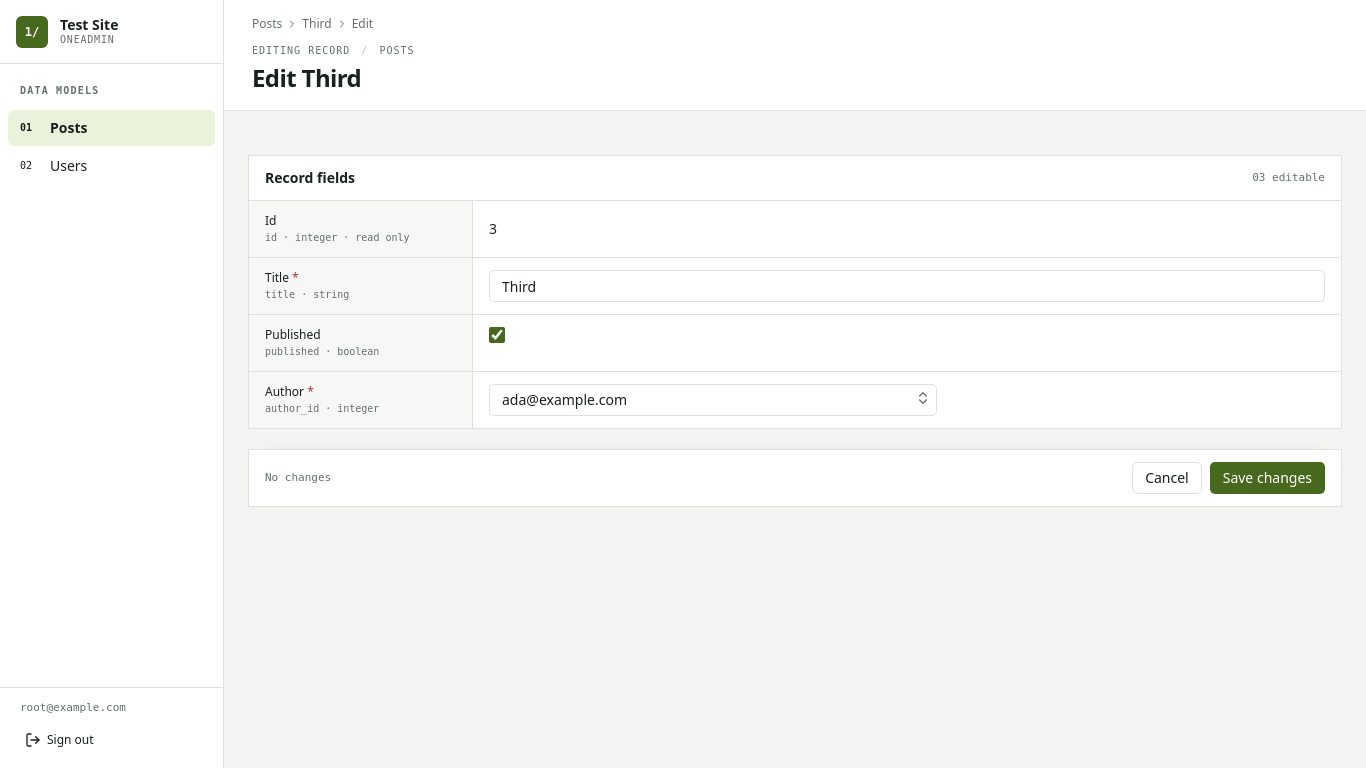
Test case: editing › sends only the changed fields with the row's version
Replace the text in the field labelled "Title *" with "Third, edited": (907, 286) [489, 270, 1325, 302]
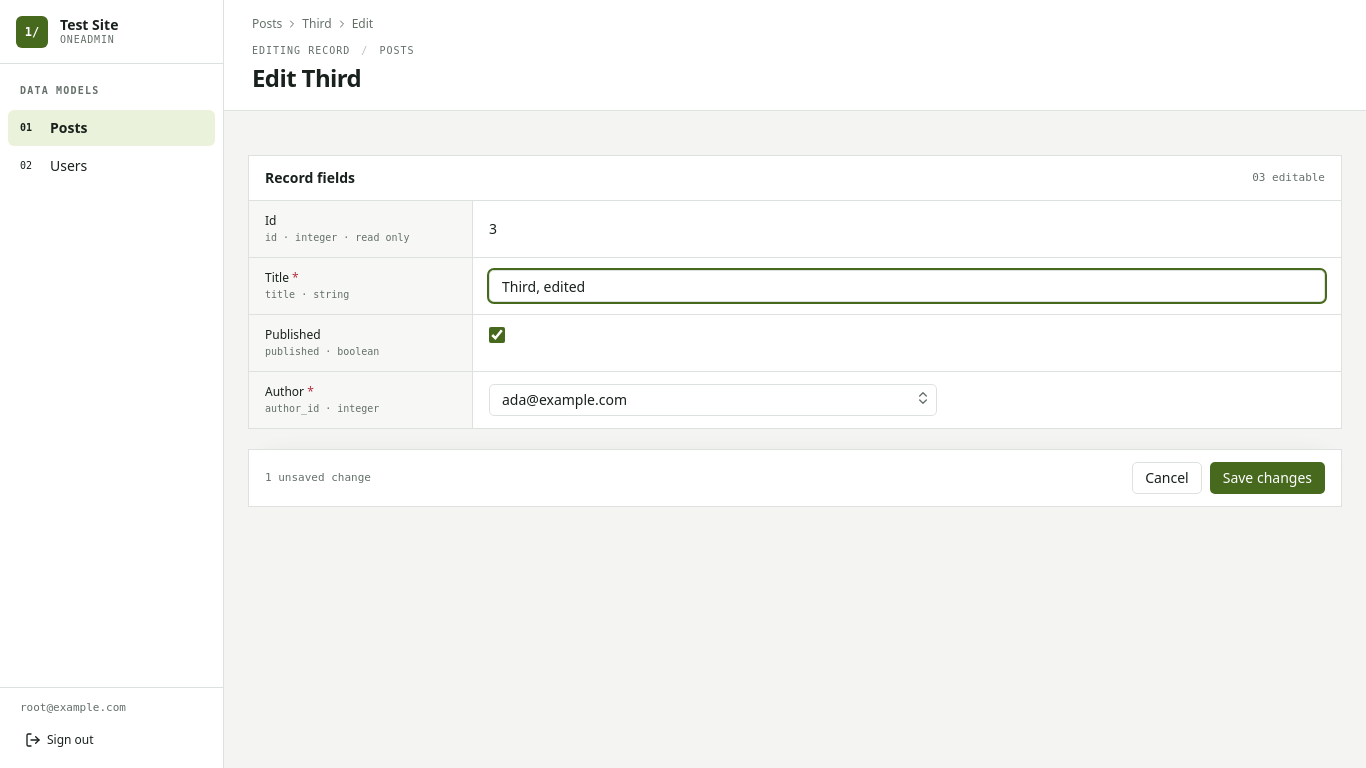
Expected: the text "1 unsaved change" is shown, [265, 470, 371, 486]
Click the button "Save changes": (1267, 478) [1210, 462, 1325, 494]
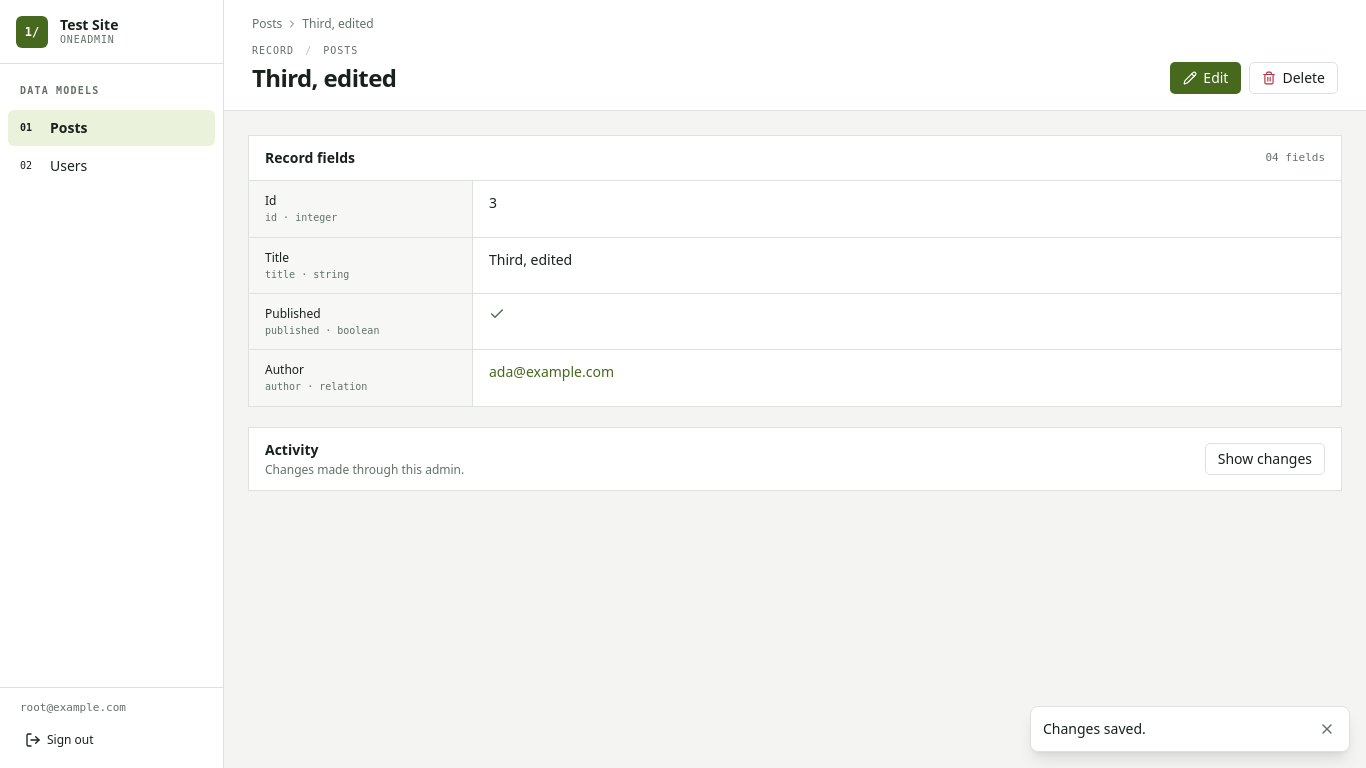
Expected: the heading "Third, edited" is shown, [252, 62, 396, 94]
Expected: the text "Changes saved." is shown, [1043, 719, 1146, 738]
